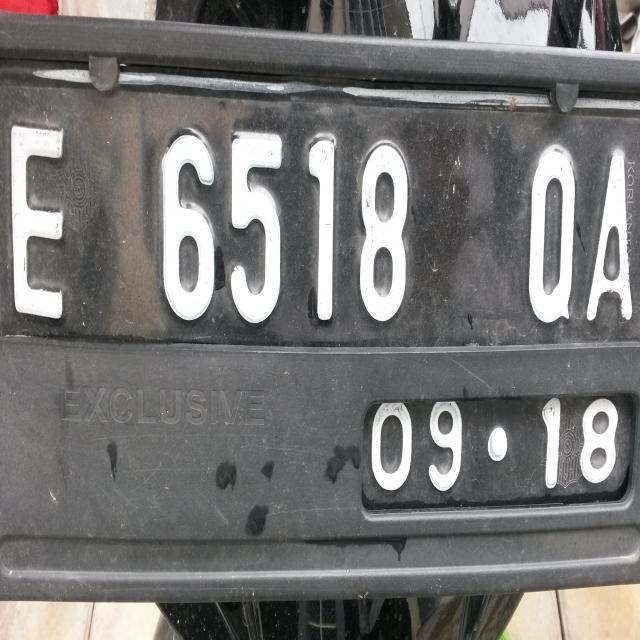1: (295, 124, 350, 338)
5: (226, 110, 294, 336)
6: (150, 107, 224, 350)
8: (354, 118, 414, 334)
A: (580, 137, 636, 350)
E: (5, 108, 76, 338)
Q: (514, 129, 580, 328)
